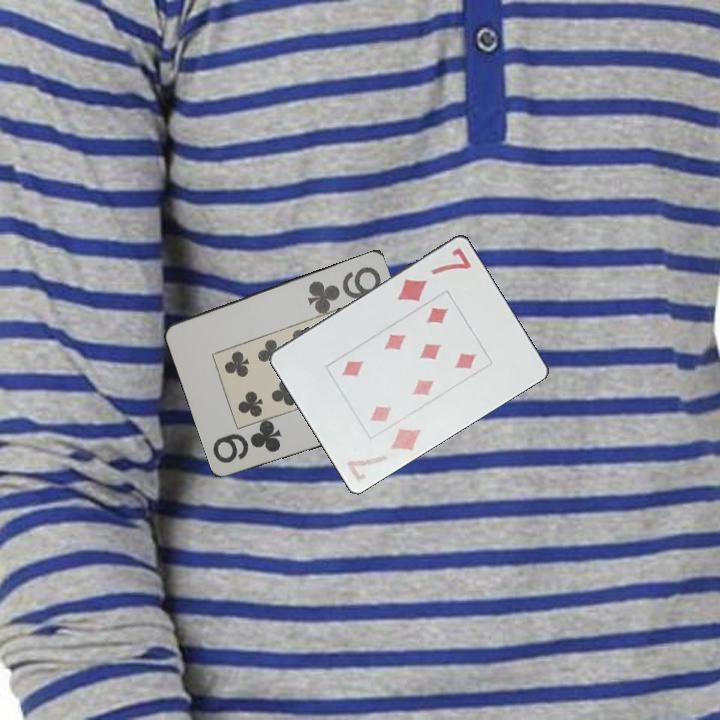7d: (343, 423, 425, 484), (394, 244, 474, 304)
9c: (304, 263, 384, 314), (209, 420, 285, 466)
